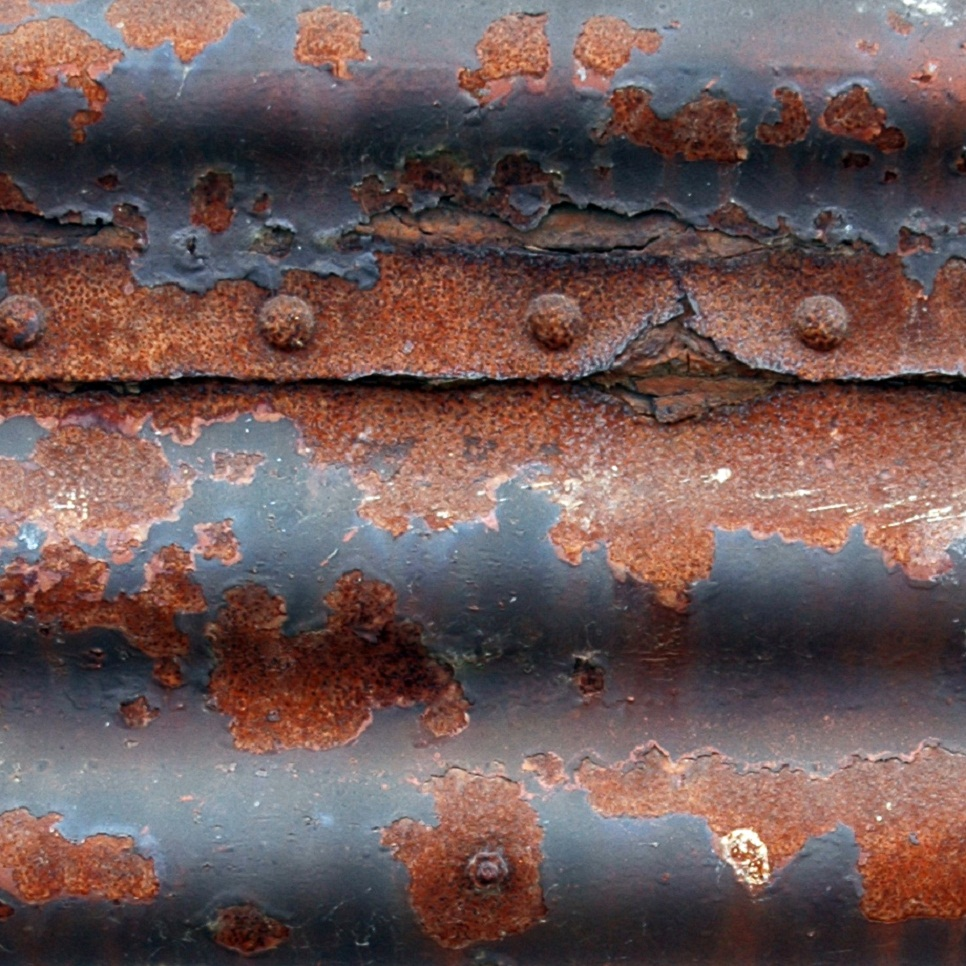rust: (47, 270, 907, 390), (576, 746, 963, 915), (212, 589, 486, 741), (369, 781, 557, 939), (605, 83, 752, 168), (1, 478, 208, 527), (463, 15, 550, 90)
